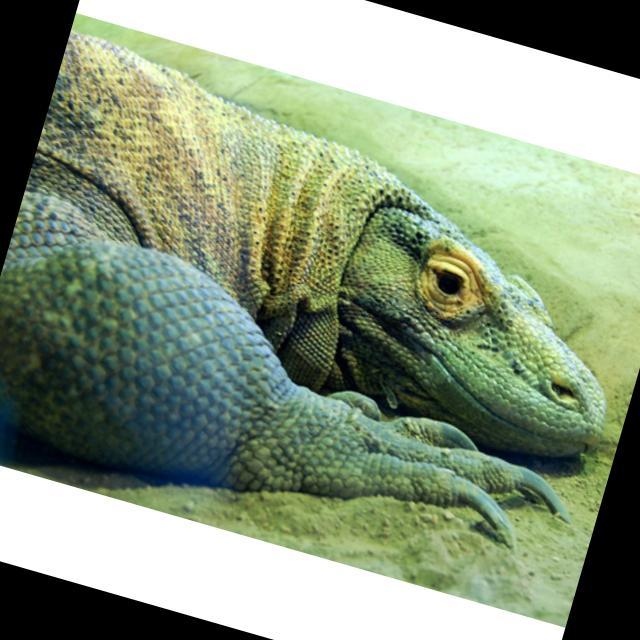KomodoDragon: (0, 27, 640, 590)
